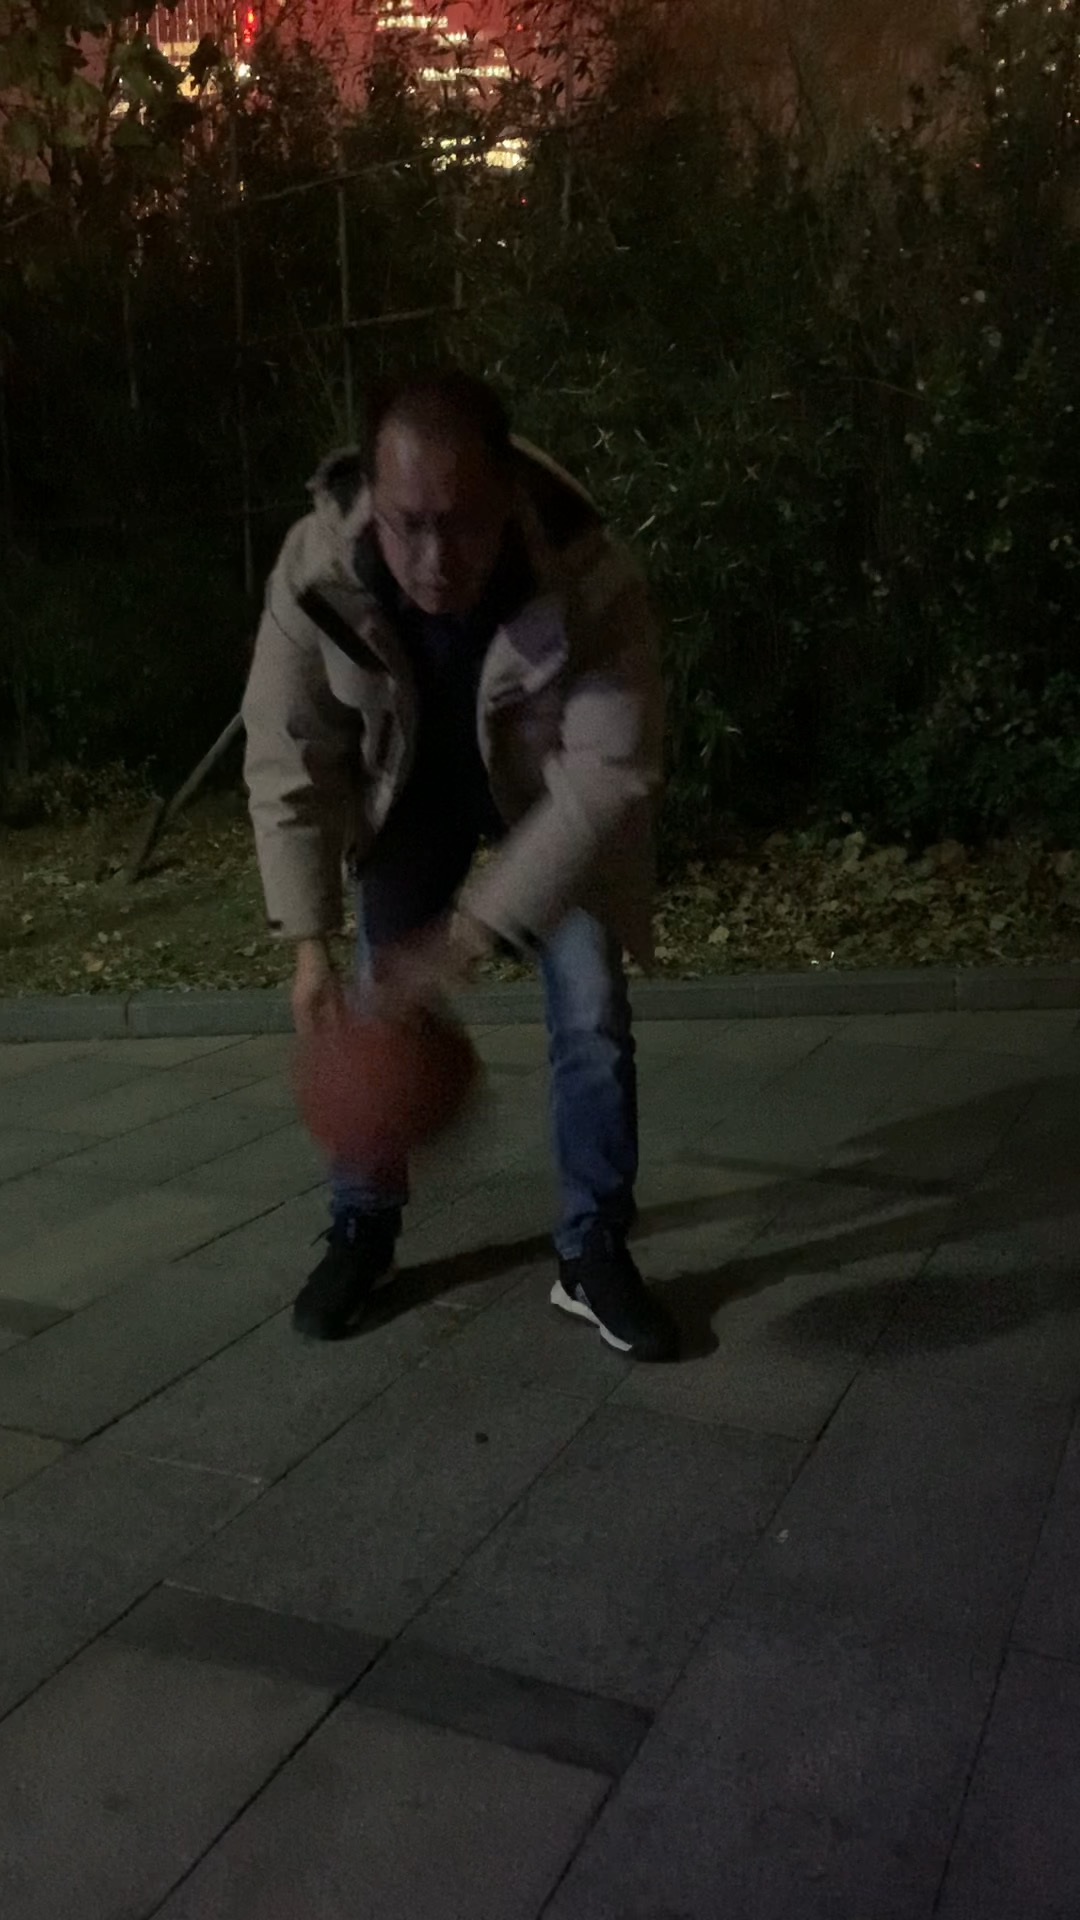ball: (287, 1000, 495, 1176)
